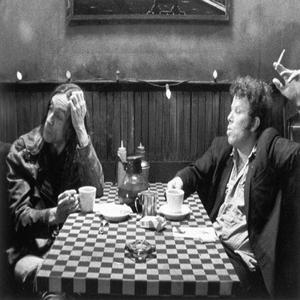cigarette: (270, 48, 286, 74)
